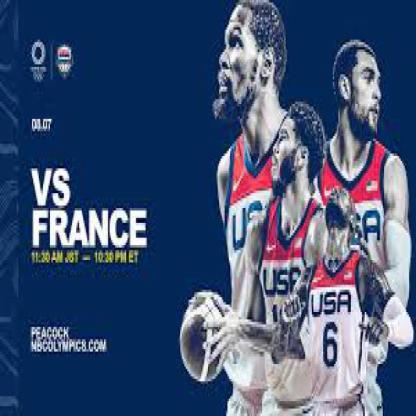basketball: (180, 297, 228, 384)
